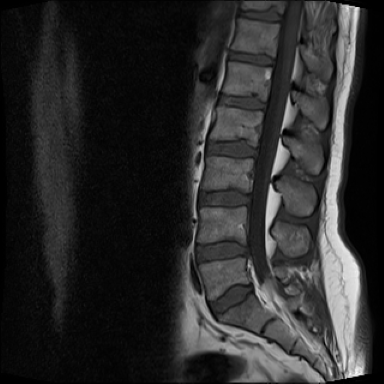Lumbar Disc Bulge (LDB): (186, 231, 257, 272)
Normal IVD: (206, 278, 253, 321), (206, 134, 259, 161), (215, 88, 269, 114), (197, 183, 252, 208), (226, 50, 275, 70), (237, 9, 284, 24)
